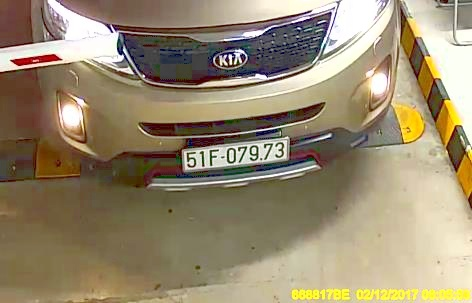plate: (180, 139, 288, 169)
